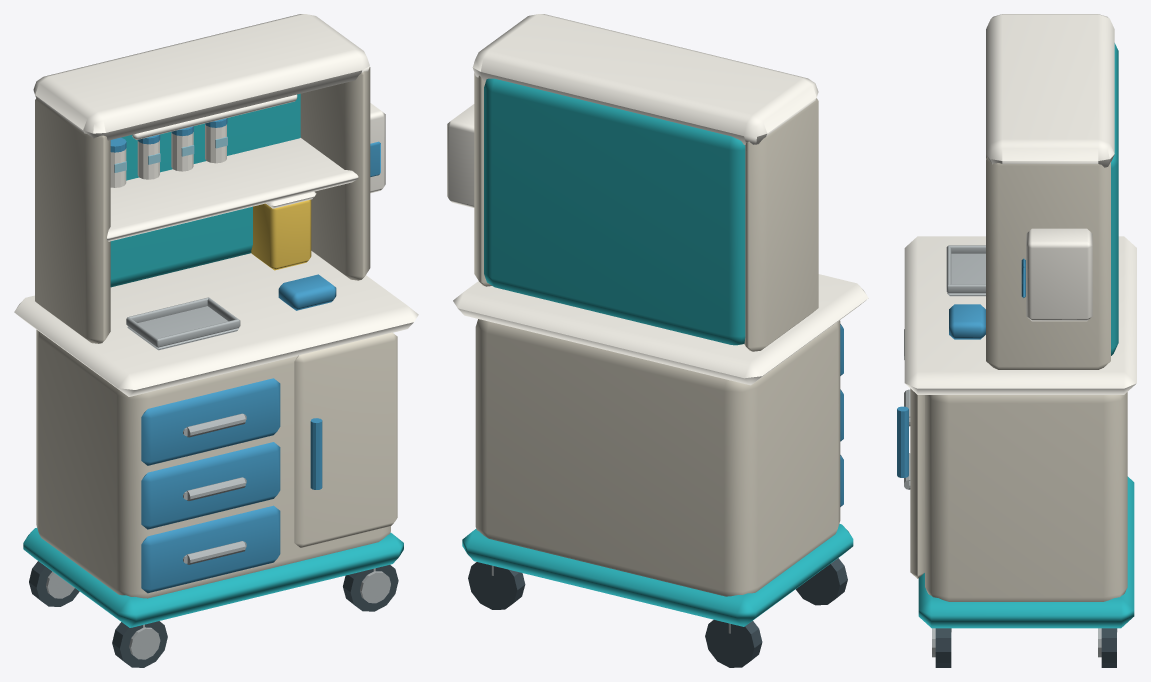
The model's file is SedaPrep_advanced.glb.
3 renders of one model, left to right at view 1: azimuth 30°, elevation 25°; view 2: azimuth 150°, elevation 25°; view 3: azimuth 270°, elevation 25°, orthographic. The views are drawn at different scales.
Visible parts, largest first — view 1: Static_white, Static_ivory, Static_teal, Door_Storage_door.002, Drawer_1, Drawer_3, Drawer_2, Static_steel, Static_yellow, Static_dark, Static_blue, Door_Door_pull.002; view 2: Static_ivory, Static_teal, Static_white, Static_dark; view 3: Static_ivory, Static_white, Static_teal, Door_Storage_door.002, Static_steel, Static_blue, Static_dark, Door_Door_pull.002.
Boxes of the visible parts, x1=… form: Static_white: x1=14, y1=14, x2=418, y2=396; Static_ivory: x1=35, y1=67, x2=390, y2=598; Static_teal: x1=23, y1=93, x2=403, y2=627; Door_Storage_door.002: x1=294, y1=332, x2=397, y2=547; Drawer_1: x1=141, y1=378, x2=280, y2=465; Drawer_3: x1=141, y1=505, x2=280, y2=593; Drawer_2: x1=141, y1=442, x2=280, y2=529; Static_steel: x1=46, y1=297, x2=390, y2=659; Static_yellow: x1=251, y1=199, x2=311, y2=270; Static_dark: x1=29, y1=561, x2=398, y2=667; Static_blue: x1=110, y1=118, x2=380, y2=310; Door_Door_pull.002: x1=310, y1=418, x2=322, y2=489; Static_ivory: x1=474, y1=73, x2=840, y2=596; Static_teal: x1=462, y1=78, x2=853, y2=626; Static_white: x1=447, y1=14, x2=868, y2=385; Static_dark: x1=468, y1=558, x2=847, y2=667; Static_ivory: x1=925, y1=155, x2=1127, y2=601; Static_white: x1=904, y1=14, x2=1136, y2=394; Static_teal: x1=918, y1=43, x2=1134, y2=628; Door_Storage_door.002: x1=910, y1=388, x2=924, y2=578; Static_steel: x1=932, y1=245, x2=1117, y2=657; Static_blue: x1=949, y1=258, x2=1025, y2=339; Static_dark: x1=935, y1=628, x2=1116, y2=667; Door_Door_pull.002: x1=897, y1=406, x2=908, y2=477.
Size of the model in its own units: 1.02 by 1.6 by 0.651.
